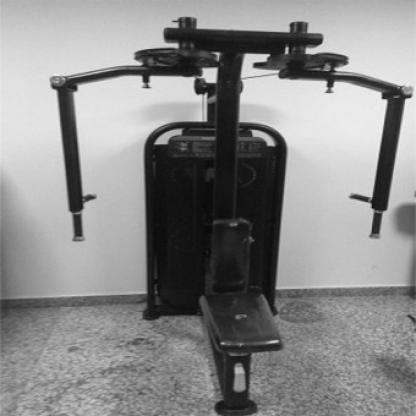chest fly machine: (28, 9, 416, 415)
